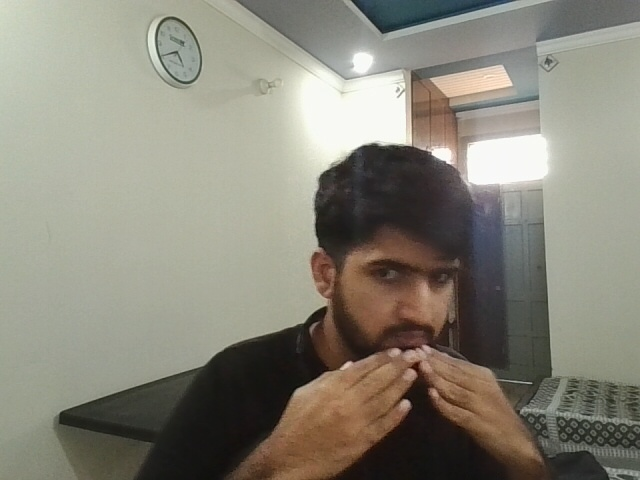Thanks: (237, 327, 568, 475)
